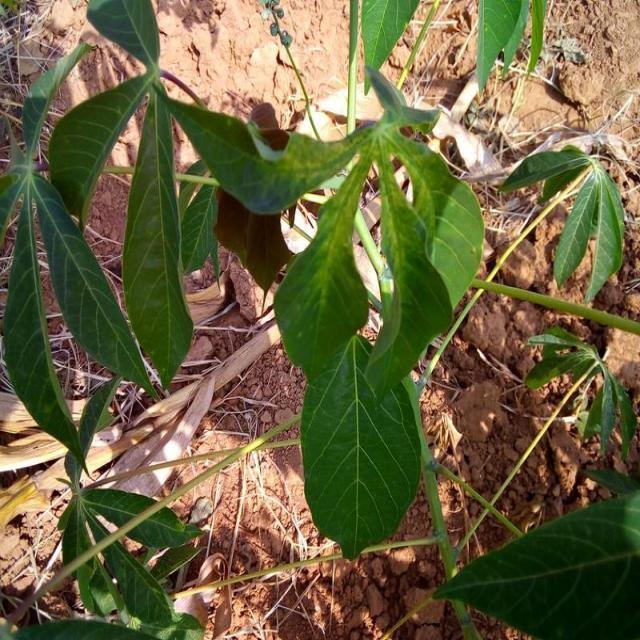cassava leaf: (433, 489, 640, 638), (300, 332, 424, 560)
